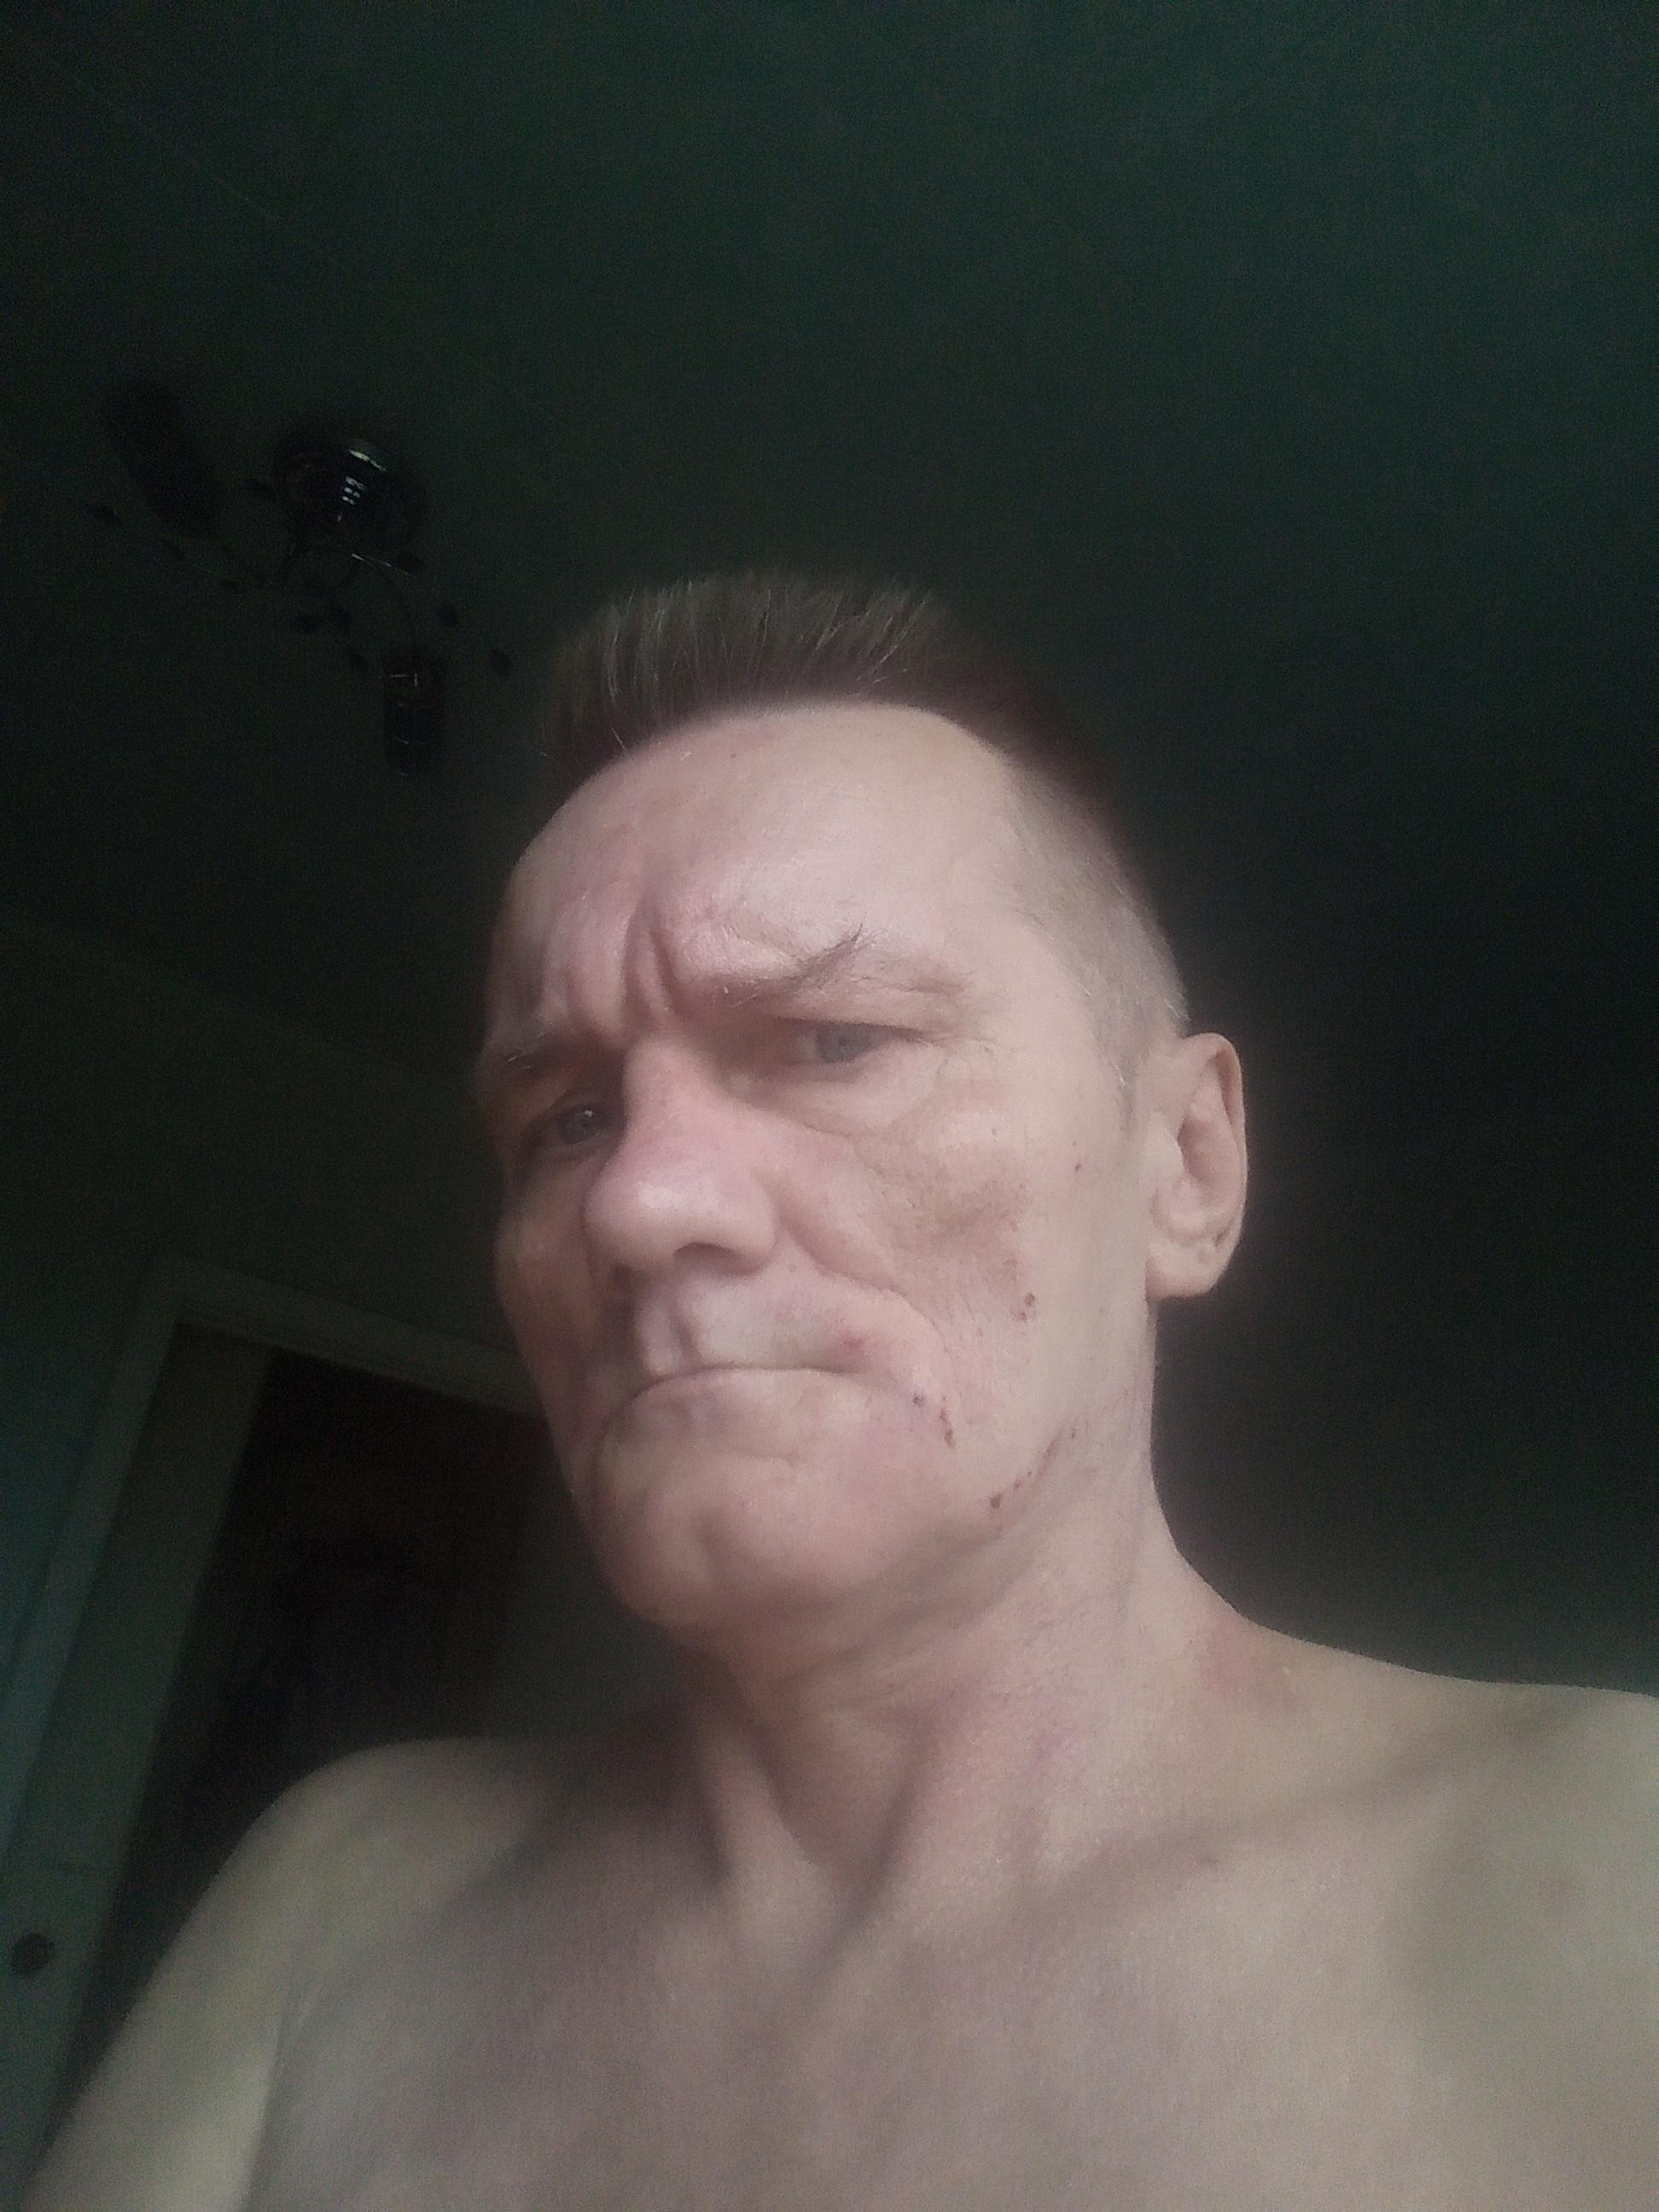Acne: (927, 1395, 974, 1453), (1014, 1284, 1046, 1322), (836, 1324, 873, 1355), (981, 1475, 1011, 1512), (1040, 1421, 1061, 1461), (1009, 1463, 1035, 1494), (990, 1247, 1025, 1270), (1072, 1151, 1091, 1179), (910, 1385, 927, 1413), (986, 1123, 1006, 1143)
Englarged-Pores: (892, 1144, 983, 1261)
Wrinkles: (565, 909, 695, 1038), (924, 1282, 1004, 1400), (809, 1244, 929, 1312), (798, 1118, 917, 1186), (725, 1430, 831, 1487), (934, 1022, 1011, 1089), (742, 911, 802, 968)
